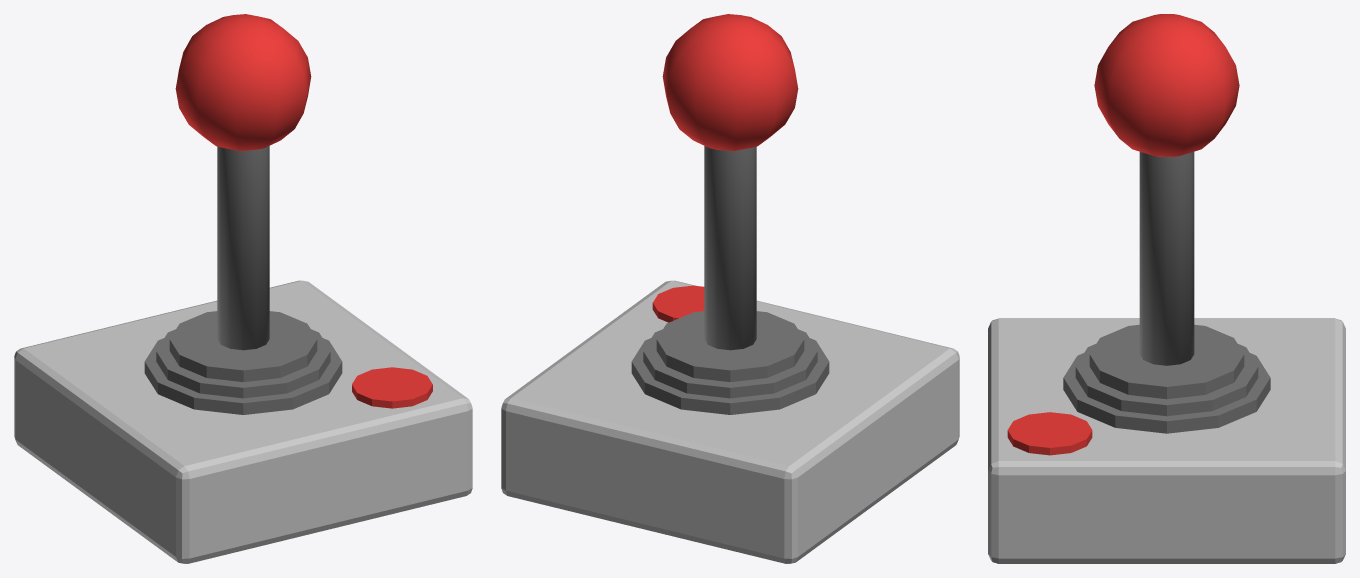
The model's file is joystick.fbx.
3 renders of one model, left to right at view 1: azimuth 30°, elevation 25°; view 2: azimuth 150°, elevation 25°; view 3: azimuth 270°, elevation 25°, orthographic. The views are drawn at different scales.
Parts seen in each view (by area): view 1: Cube, Sphere, Cylinder, Cylinder.001; view 2: Cube, Sphere, Cylinder, Cylinder.001; view 3: Cube, Sphere, Cylinder, Cylinder.001.
Boxes of the visible parts, x1,y1,x2,y2 form: Cube: (14,280,472,563); Sphere: (175,14,311,350); Cylinder: (144,311,342,414); Cylinder.001: (352,367,432,408); Cube: (501,280,959,563); Sphere: (662,14,798,350); Cylinder: (631,311,829,414); Cylinder.001: (652,285,704,322); Cube: (988,318,1345,563); Sphere: (1094,14,1239,365); Cylinder: (1063,324,1270,433); Cylinder.001: (1007,412,1092,455).
Bounding box in the file's own units: 200 × 291 × 200.
